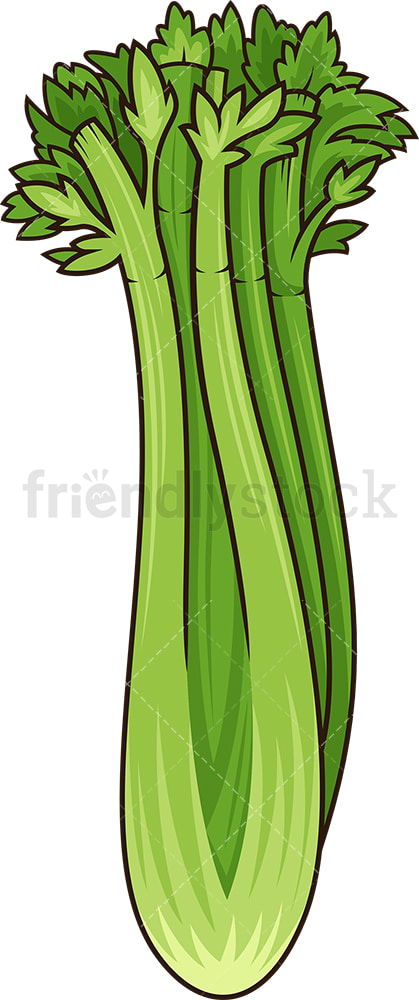Seledri: (17, 12, 399, 996)
